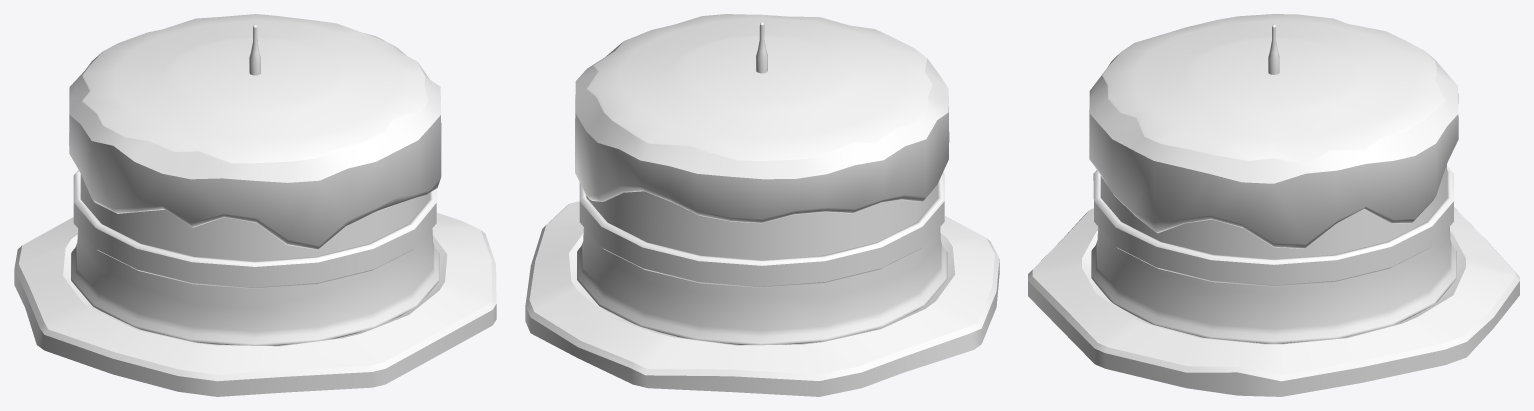
File: PropBirthdayCakeM.glb
3 renders of one model, left to right at view 1: azimuth 30°, elevation 25°; view 2: azimuth 150°, elevation 25°; view 3: azimuth 270°, elevation 25°, orthographic.
Visible parts, largest first — view 1: PropBirthdayCakeM; view 2: PropBirthdayCakeM; view 3: PropBirthdayCakeM.
Boxes of the visible parts, box(x1,y1,x2,y2) form: PropBirthdayCakeM: box(14, 14, 496, 396); PropBirthdayCakeM: box(525, 14, 999, 396); PropBirthdayCakeM: box(1028, 14, 1519, 396).
Bounding box in the file's own units: 3.98 × 2.39 × 3.98.
Materials: 1 (1 with a texture image).
